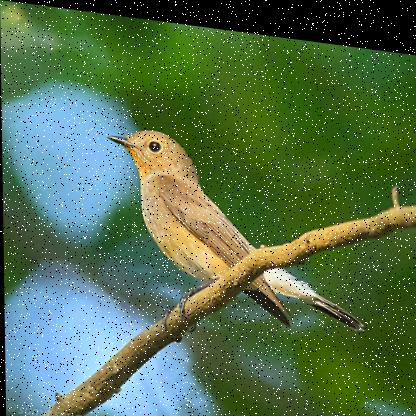Burung: (100, 119, 373, 343)
